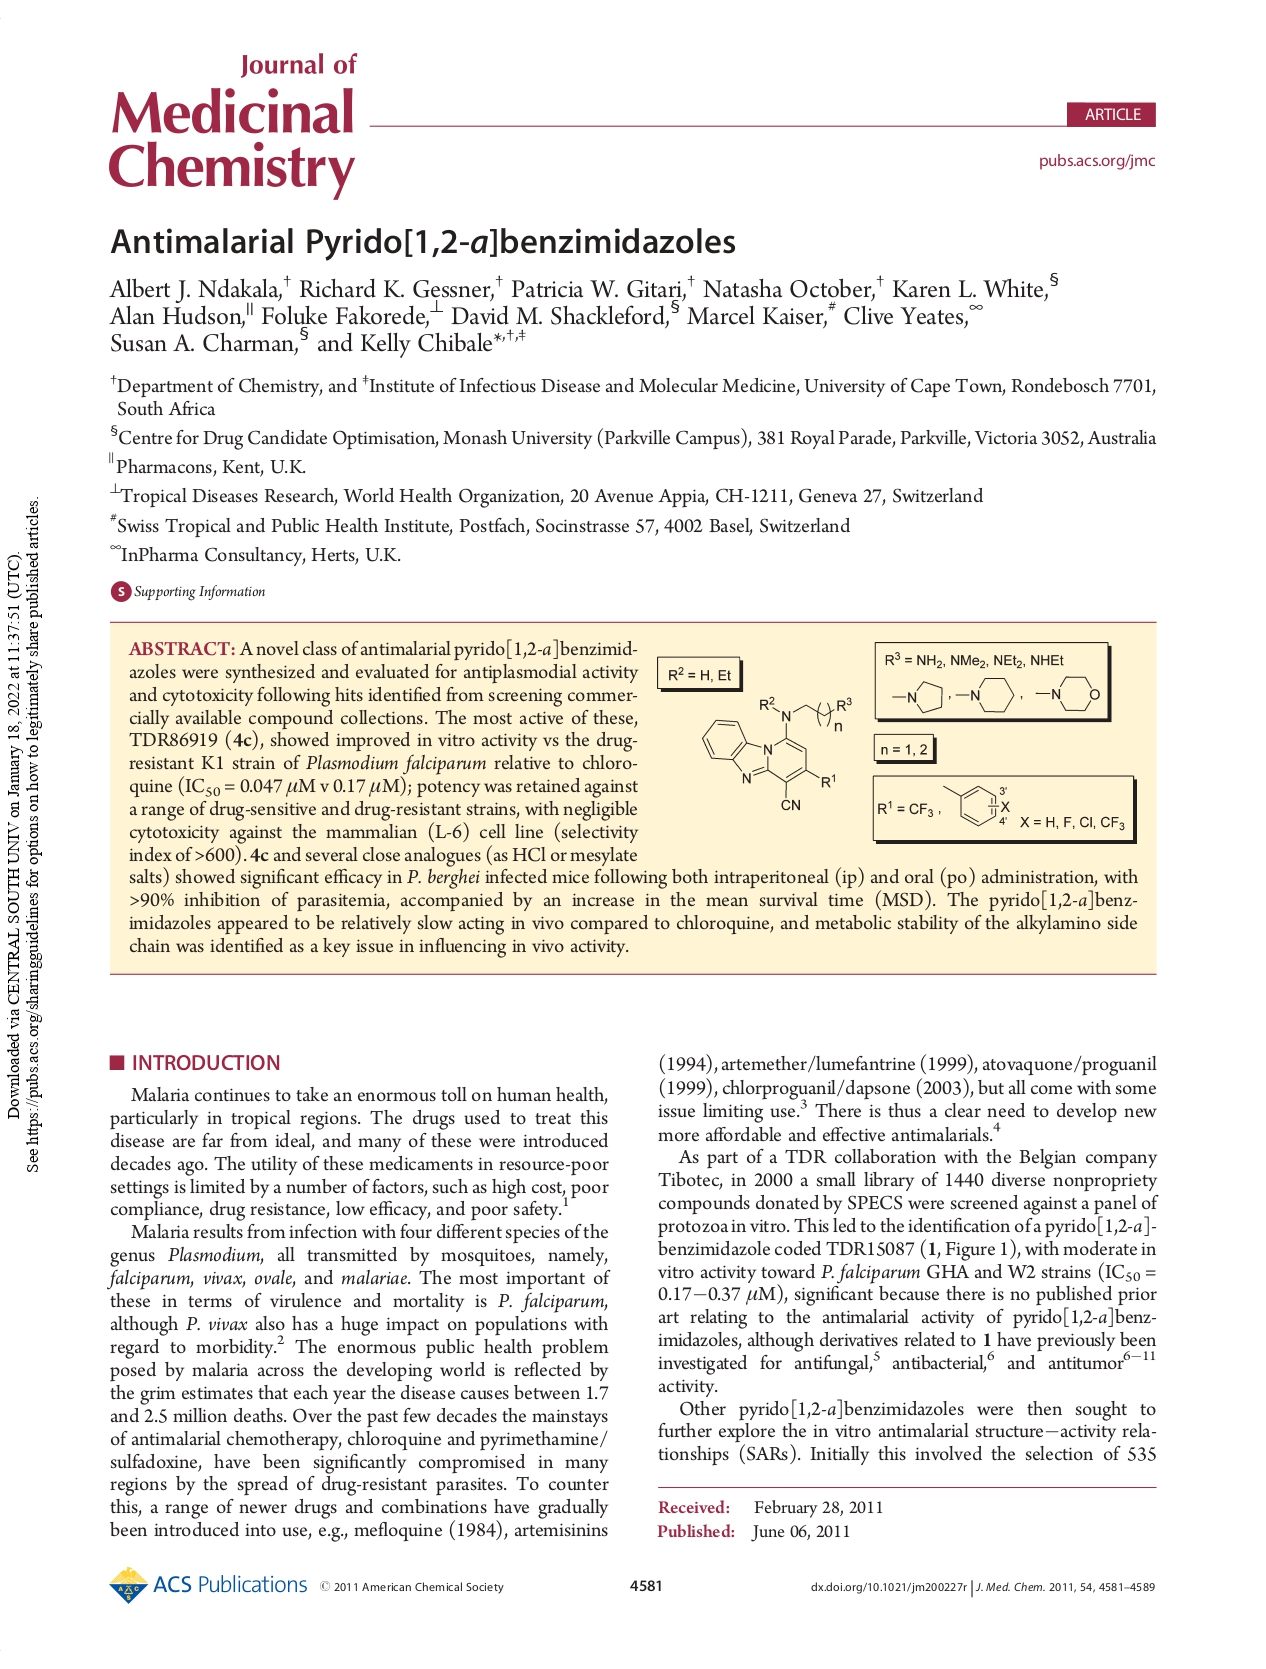exist_molecular: (698, 693, 852, 815), (939, 781, 1012, 827), (1031, 670, 1100, 711), (953, 674, 1017, 715), (886, 677, 946, 714)
